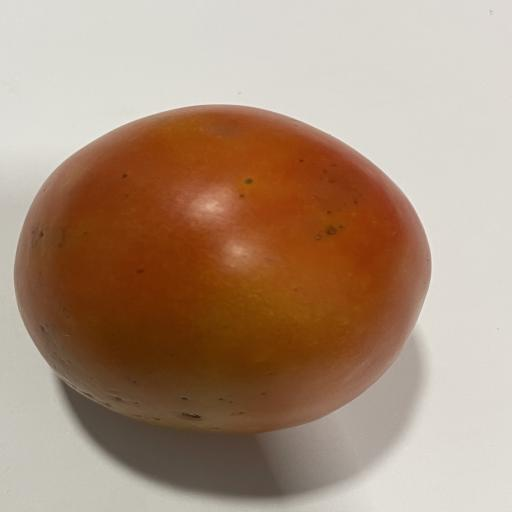ripe: (15, 105, 431, 433)
